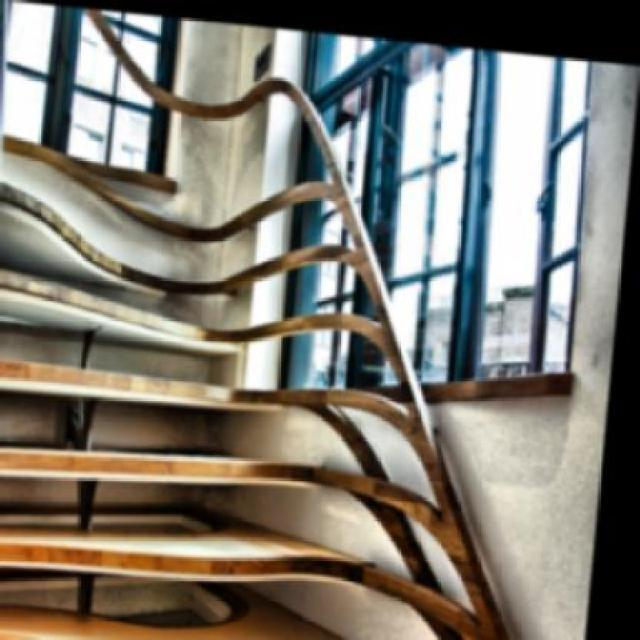stair: (0, 0, 352, 638)
